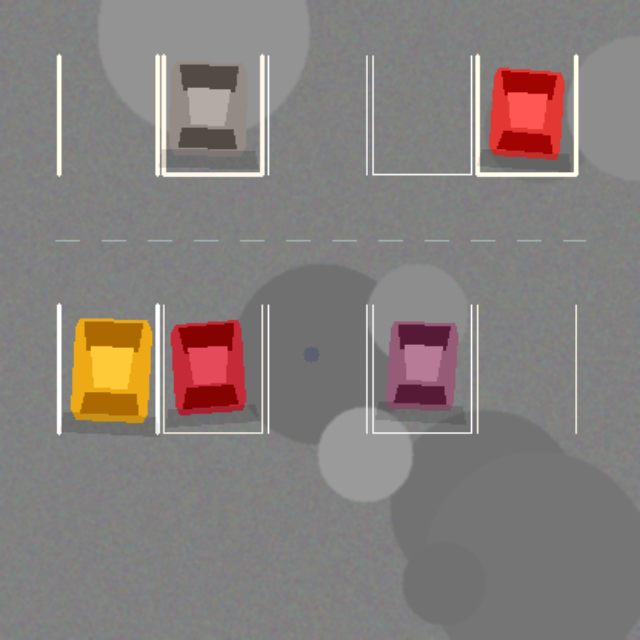space-empty: (268, 305, 366, 432), (477, 305, 575, 432), (58, 55, 157, 174), (372, 55, 471, 174), (268, 55, 366, 174)
space-occupied: (58, 305, 157, 432), (163, 305, 262, 432), (372, 305, 471, 432), (163, 55, 262, 174), (477, 55, 575, 174)
